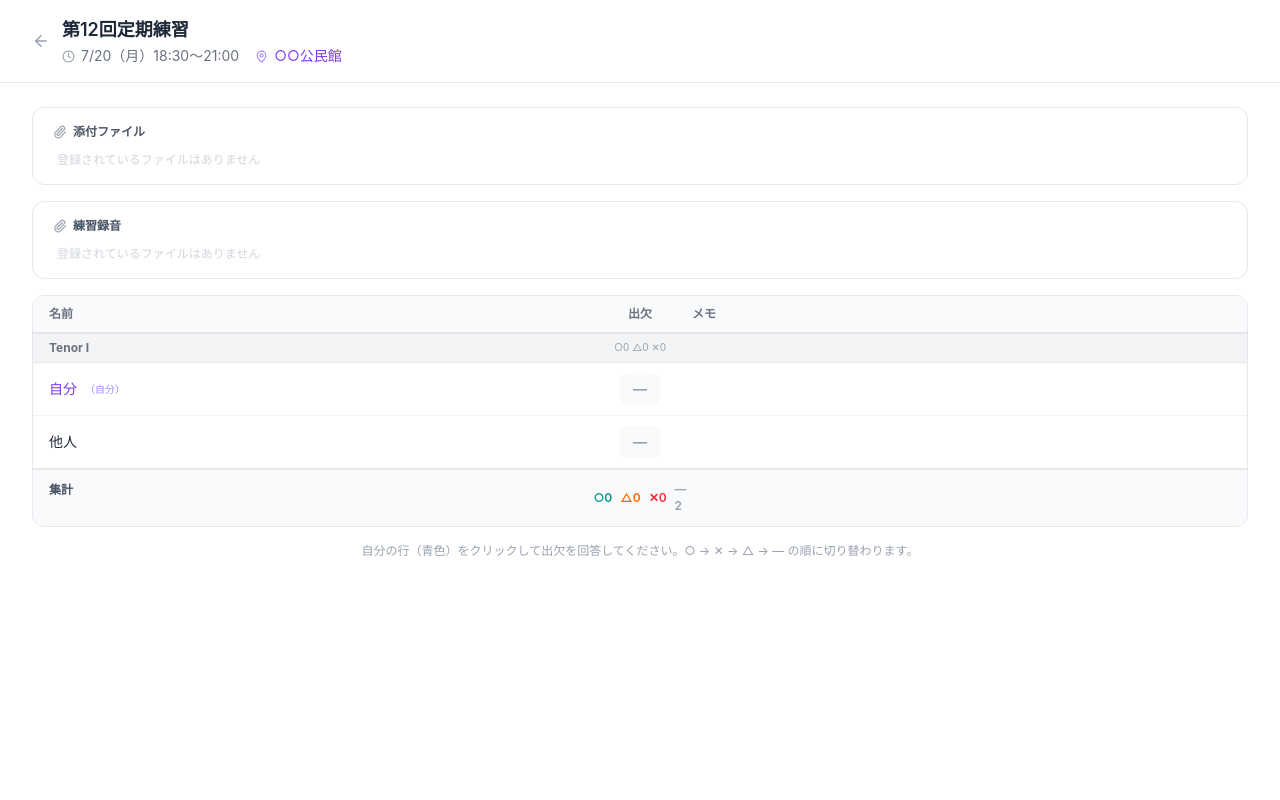
Test: ScheduleDetailPage（メモ保存） › 「保存」クリックでupdateAttendanceが呼ばれ、成功時は入力欄が閉じる
Click the button titled "クリックで変更" in the row of "（自分）".
click(640, 389)  # box top-left (620, 373), bottom-right (660, 405)
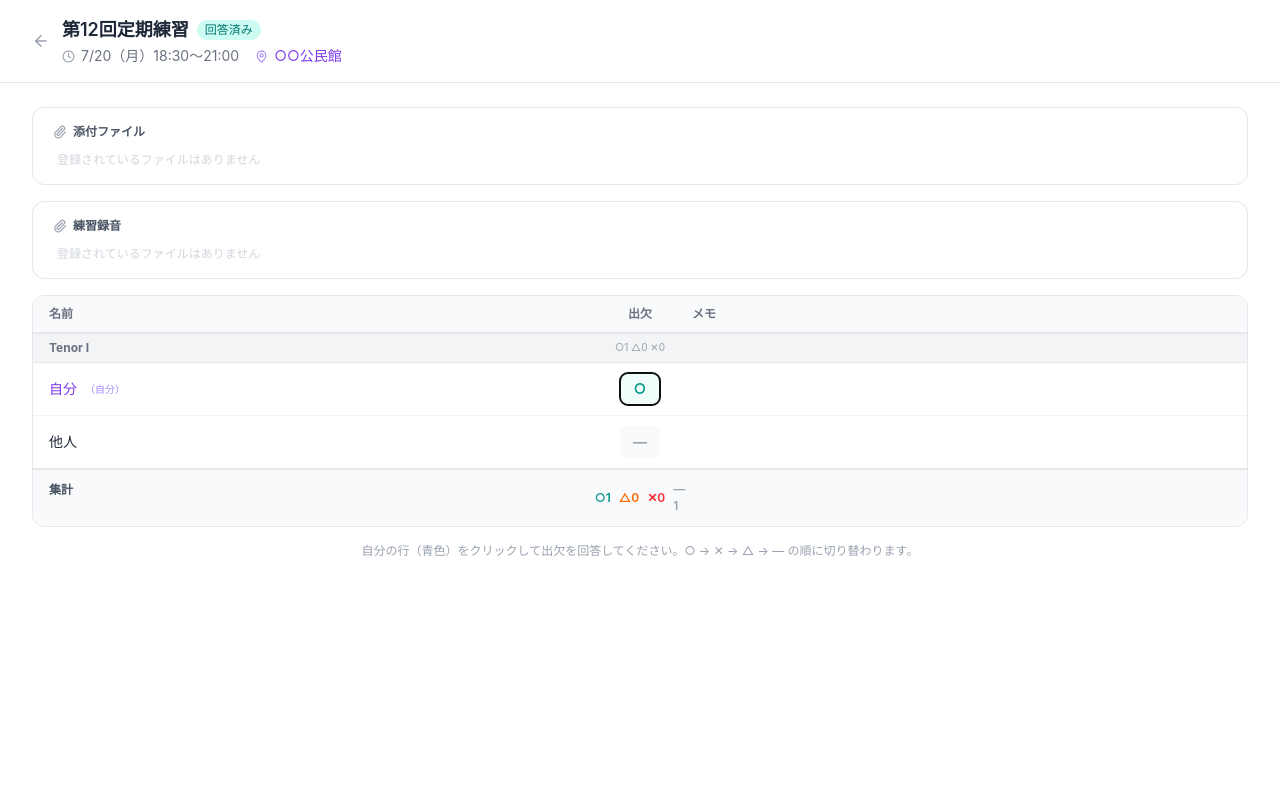
Click the button titled "クリックで変更".
click(640, 389)  # box top-left (620, 373), bottom-right (660, 405)
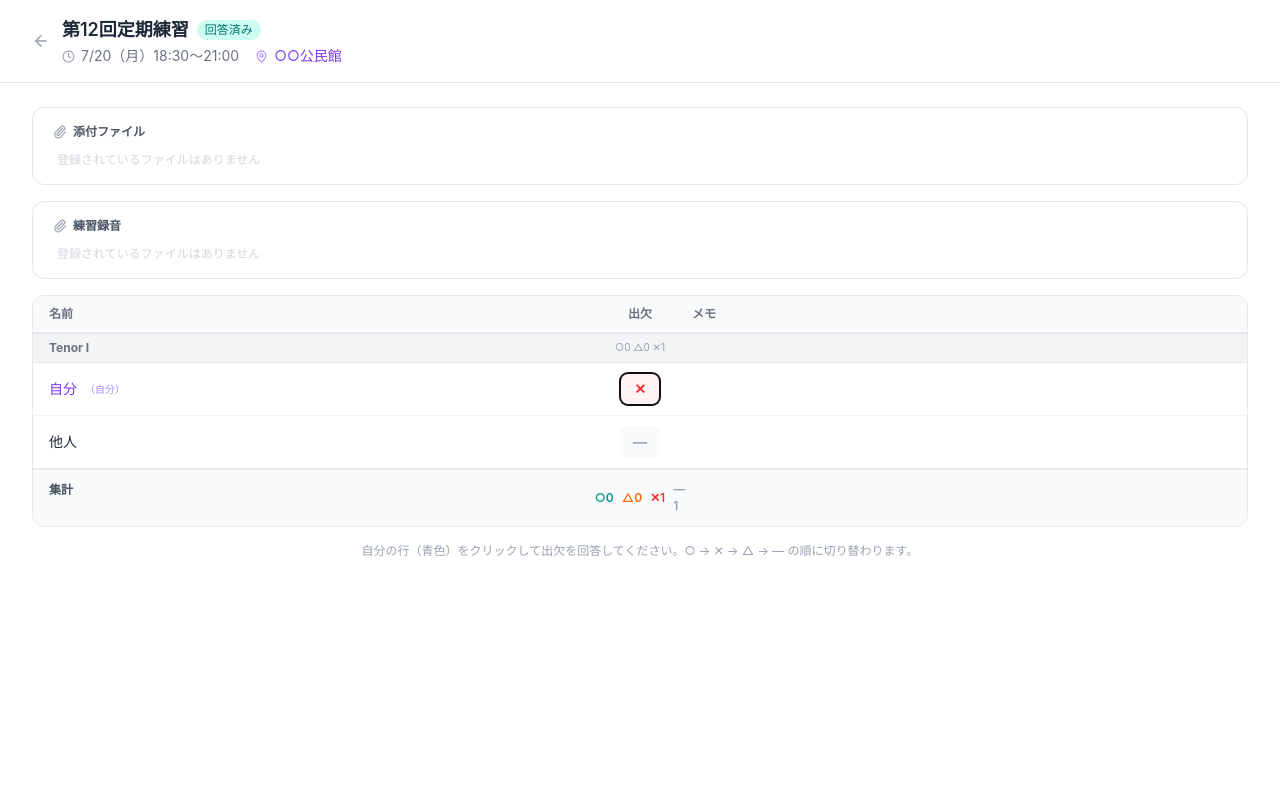
Click the button titled "クリックで変更".
click(640, 389)  # box top-left (620, 373), bottom-right (660, 405)
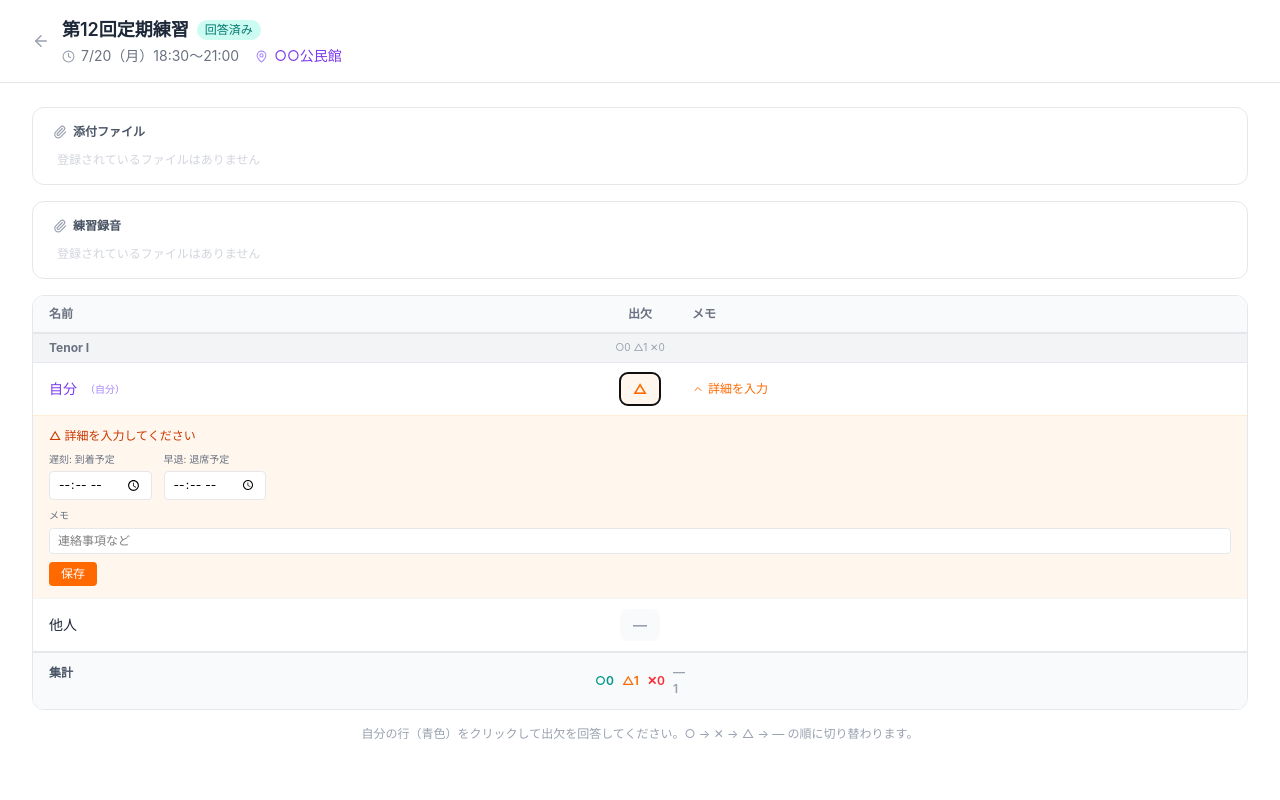
Check: the text "△ 詳細を入力してください" is shown, box top-left (49, 428), bottom-right (196, 443)
Click the button "保存".
click(73, 574)  # box top-left (49, 562), bottom-right (97, 586)
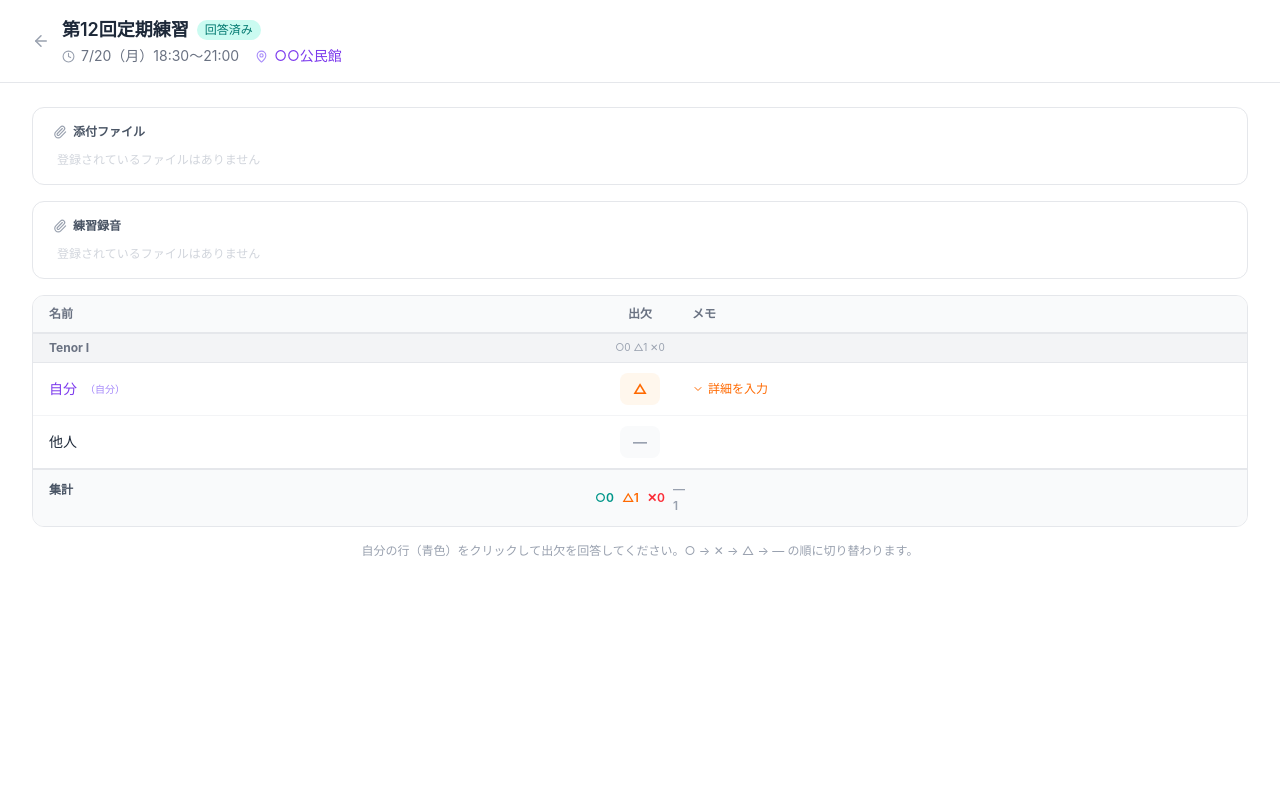
Check: the text "△ 詳細を入力してください" is gone
